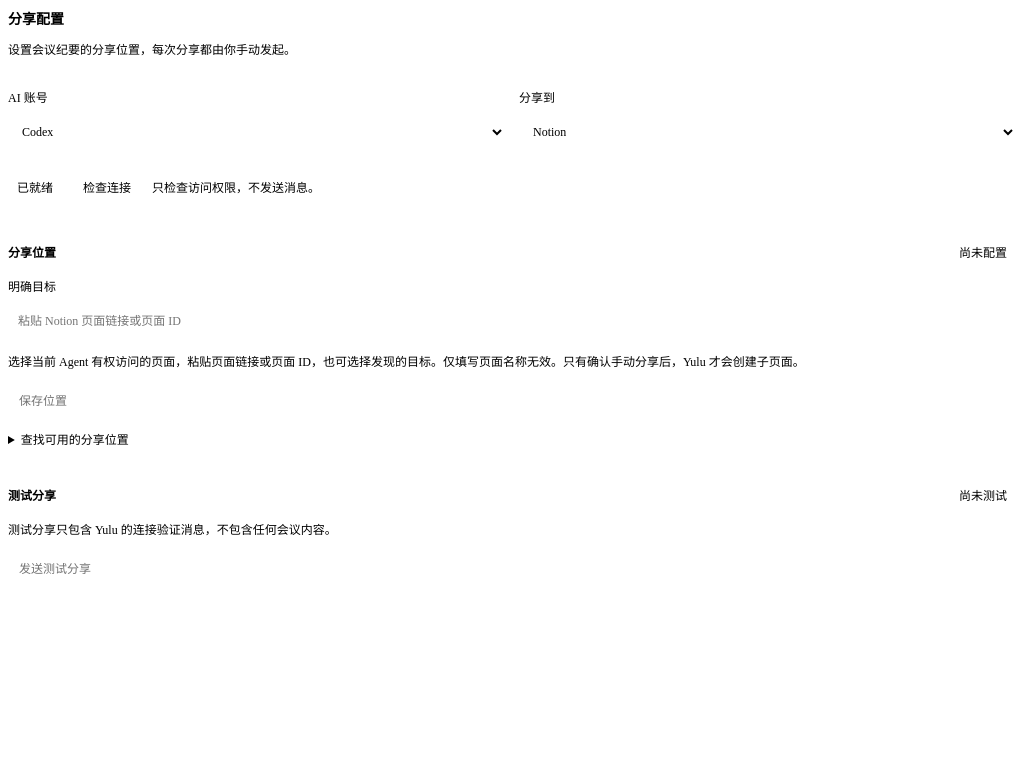
Scenario: SharingSettings › stops when selecting an account fails
The image size is (1024, 768).
Select "Zulip" in the dropdown labelled "分享到" at (768, 132), box [519,113,1016,151]
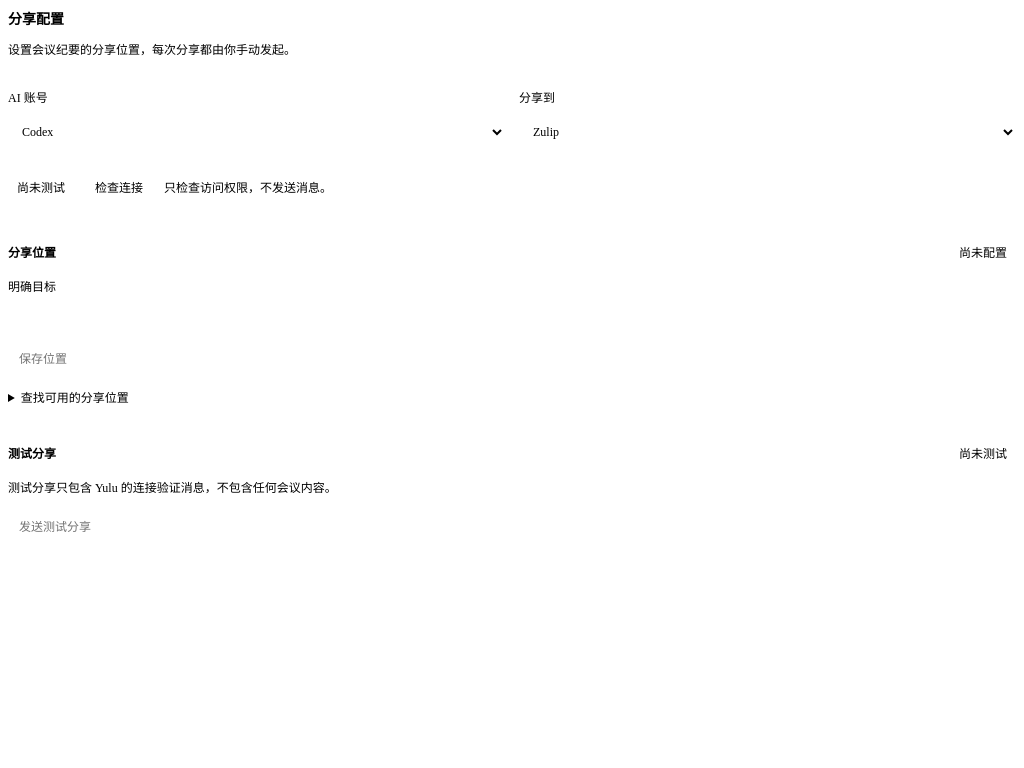
Click the button "检查连接" at (119, 187), box [84,169,154,205]
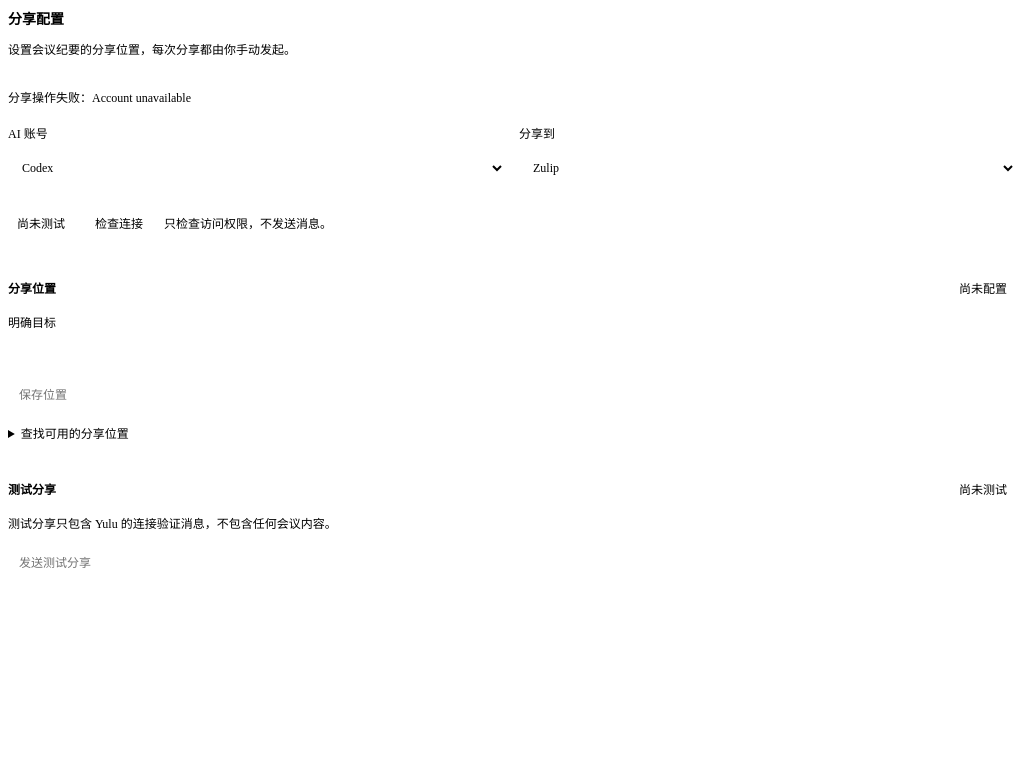
Expected: the message shows "Account unavailable", [8,91,191,105]
